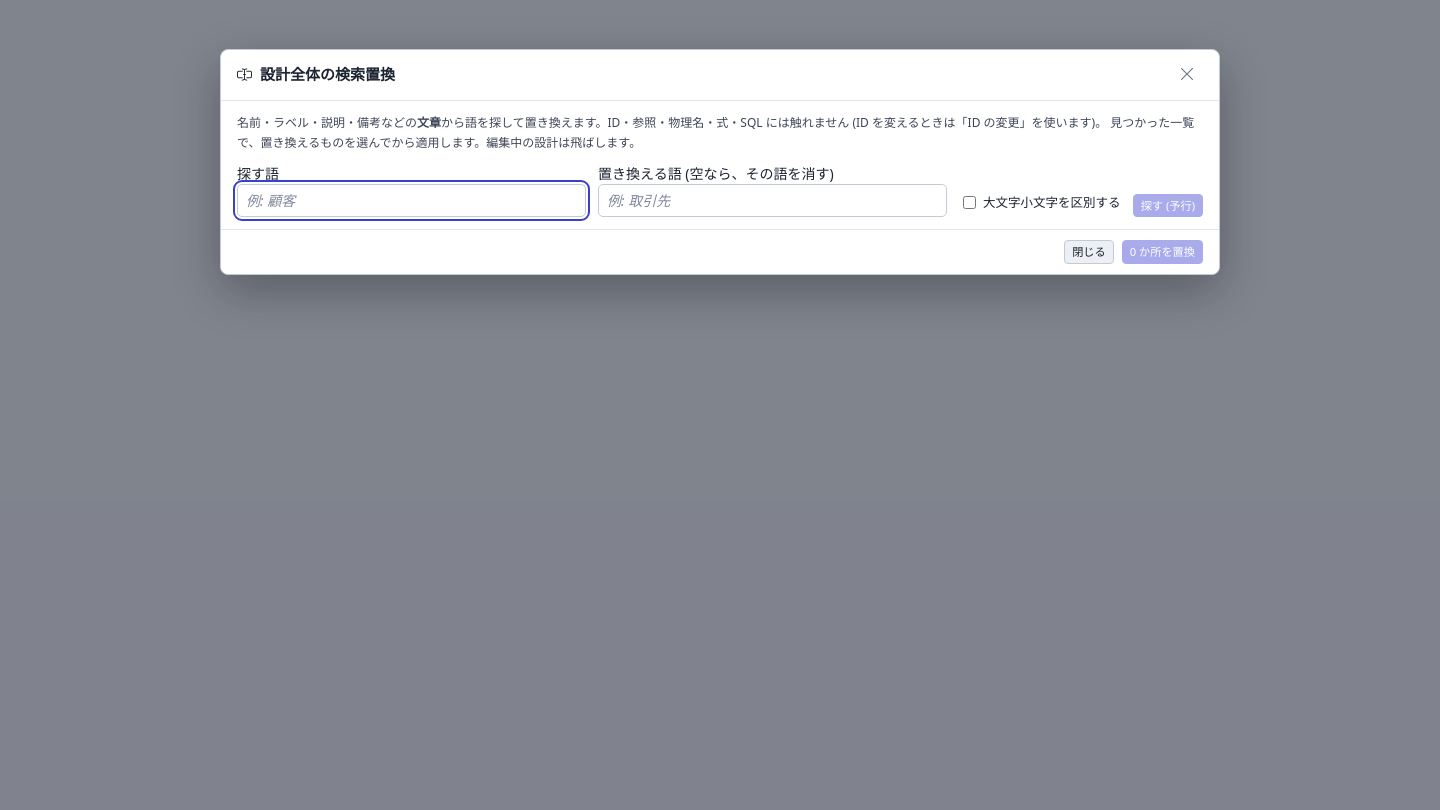
it: ReplaceDialog (設計全体の検索置換) › 置換後が空になる候補は、初めから選ばず、警告を出す。編集中の設計は選べない
Type "顧客" into the field with test id "replace-query" at {"x": 412, "y": 201}, box [237,184,586,217]
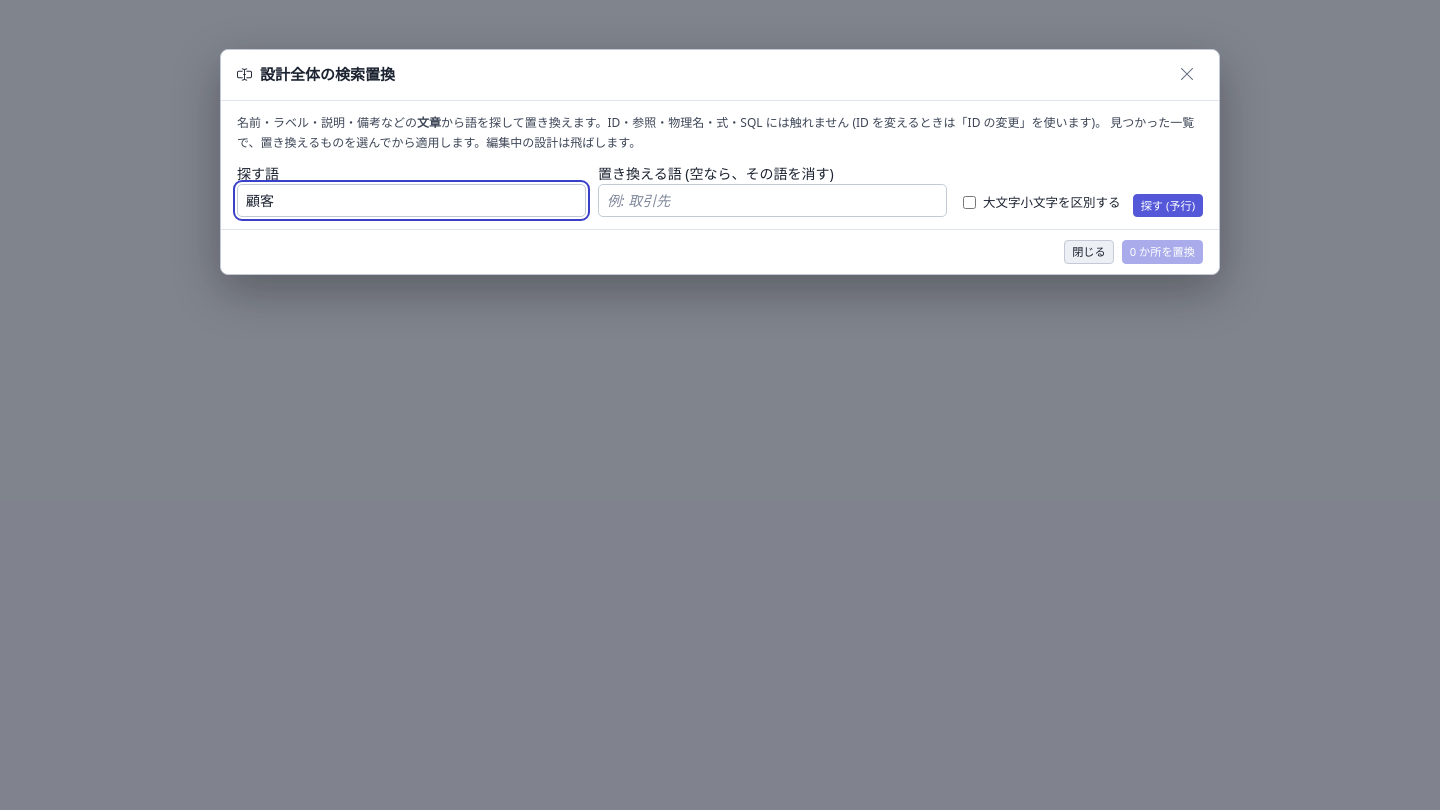
Click the button with test id "replace-search" at {"x": 1168, "y": 206}, box [1133,194,1203,217]
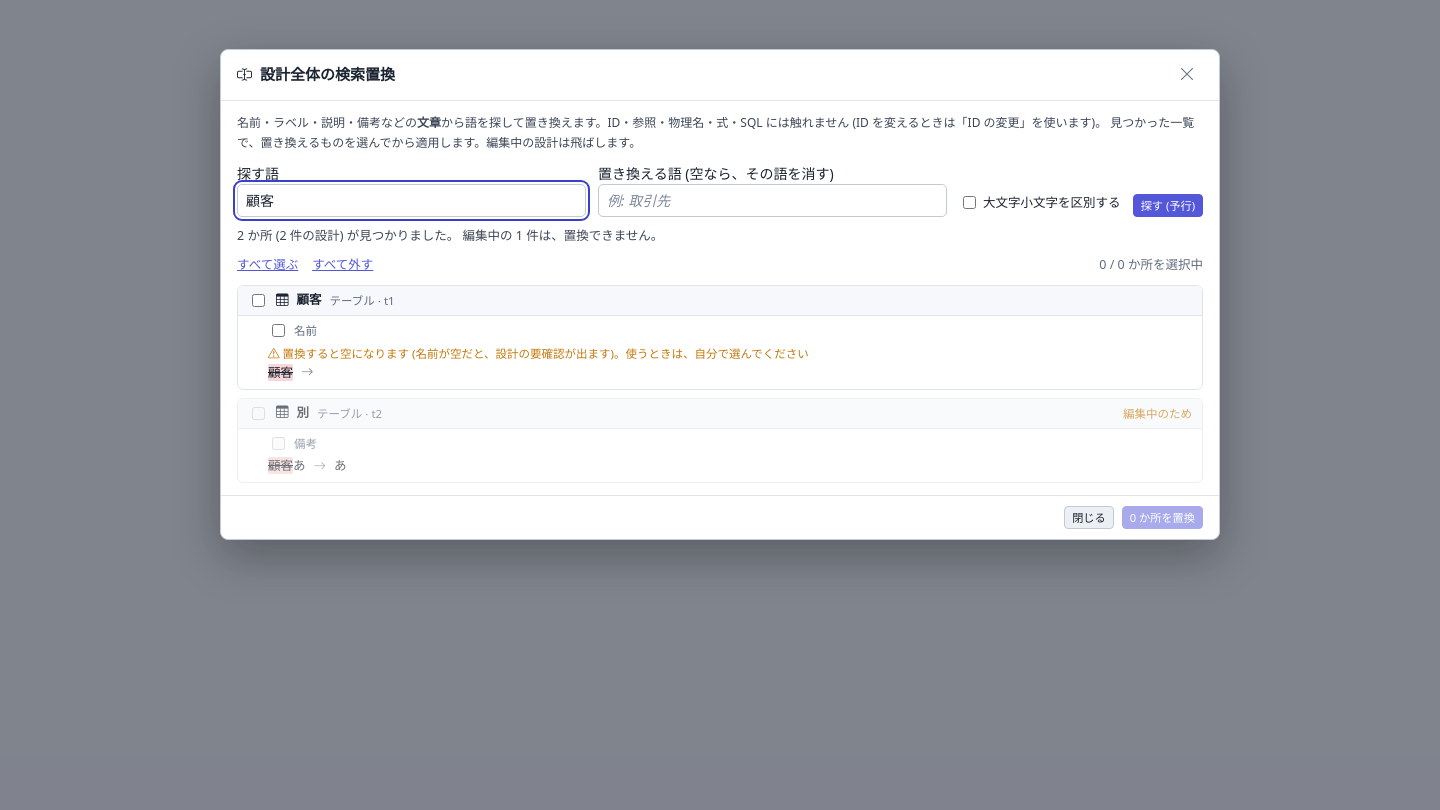
expect the element with test id "replace-list" is shown: met, box [237,285,1203,483]
expect the element with test id "replace-empty-warn" is shown: met, box [268,346,809,361]
expect the text "編集中のため" is shown: met, box [1123,404,1192,422]
